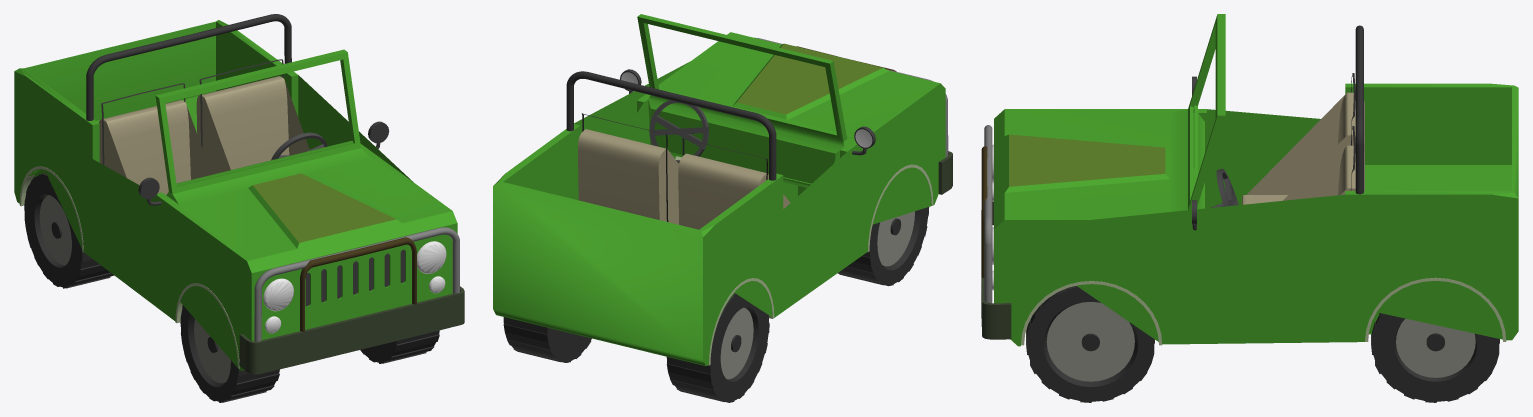
The model's file is jeep2.fbx.
3 renders of one model, left to right at view 1: azimuth 30°, elevation 25°; view 2: azimuth 150°, elevation 25°; view 3: azimuth 270°, elevation 25°, orthographic. The views are drawn at different scales.
Parts seen in each view (by area): view 1: Sweep_6; view 2: Sweep_6; view 3: Sweep_6.
Boxes of the visible parts, x1=… form: Sweep_6: x1=14, y1=14, x2=464, y2=402; Sweep_6: x1=493, y1=14, x2=952, y2=402; Sweep_6: x1=981, y1=14, x2=1518, y2=402.
Bounding box in the file's own units: 314 × 310 × 532.
